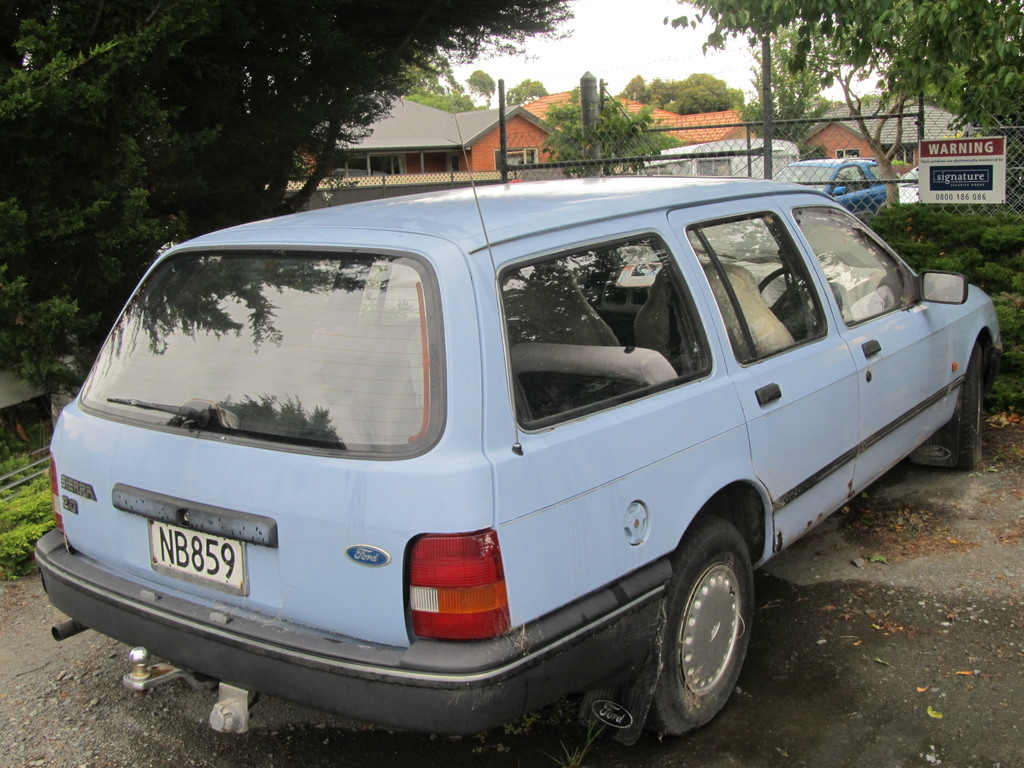Car: (32, 176, 1003, 741), (771, 156, 899, 226), (895, 166, 919, 198)
